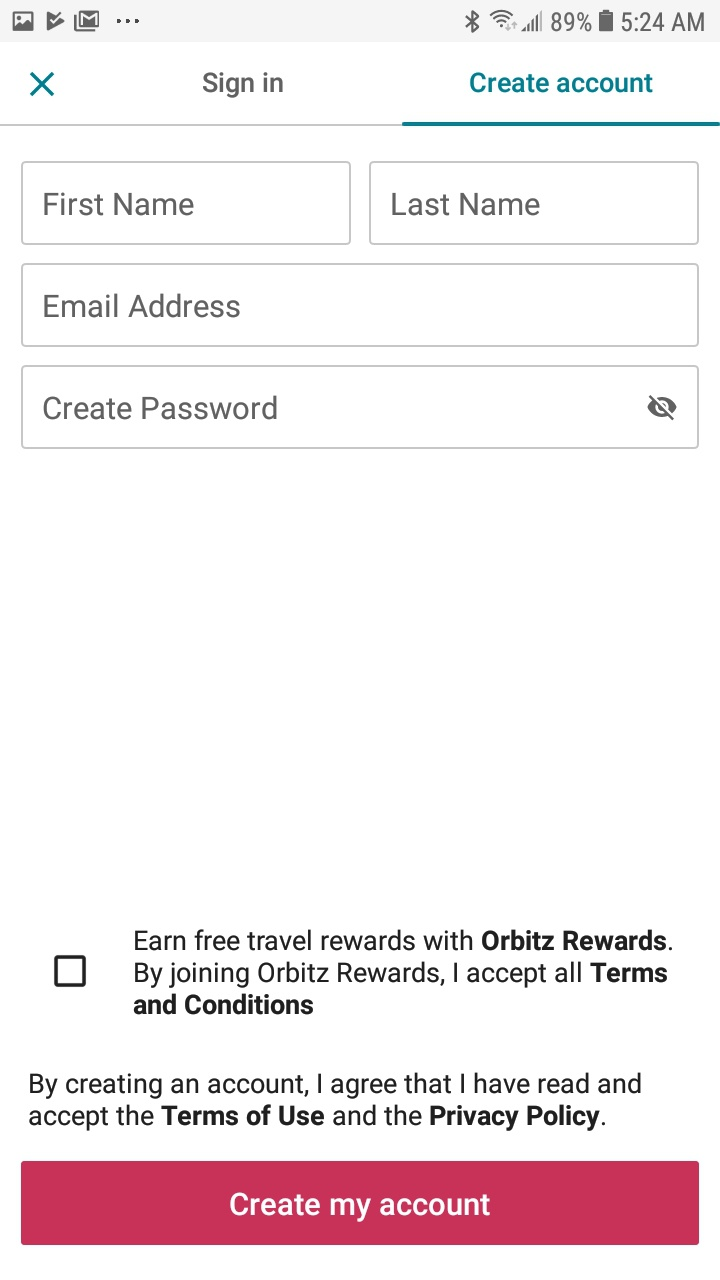CheckedTextView: (54, 928, 673, 1015)
EditText: (21, 365, 699, 450), (21, 263, 699, 348), (22, 161, 352, 246), (369, 161, 699, 246)
Icon: (647, 395, 677, 421), (30, 72, 56, 97)
Text: (134, 929, 673, 1015), (29, 1072, 642, 1132), (44, 396, 278, 421), (44, 293, 241, 319), (470, 72, 654, 94), (44, 193, 195, 217), (392, 193, 540, 217), (203, 72, 284, 99)
TextButton: (22, 1161, 699, 1245)
UpperTaskBar: (1, 1, 720, 43)
